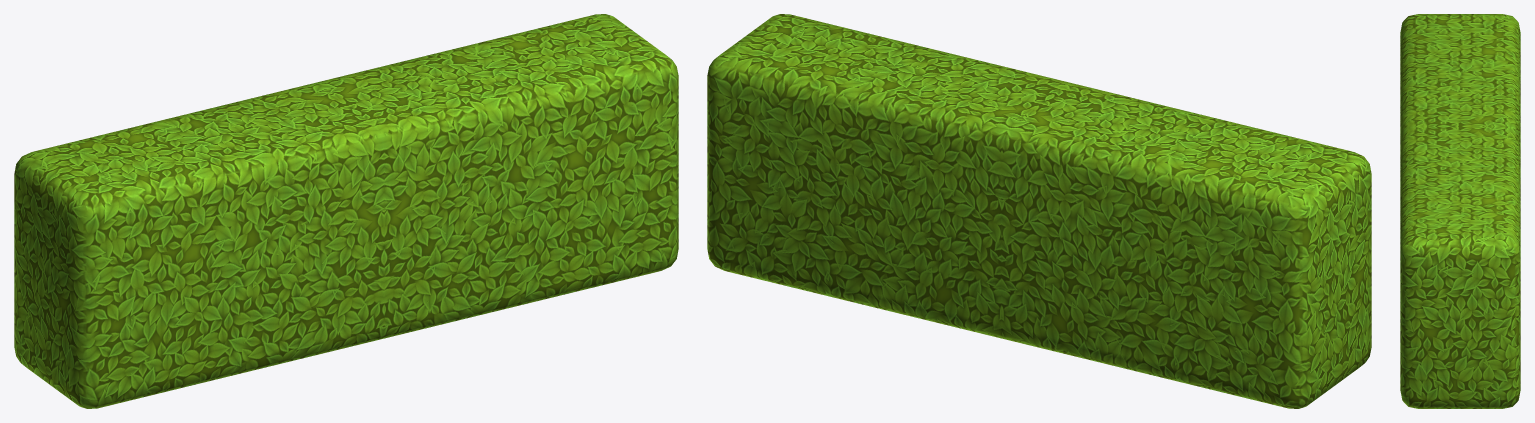
File: Hedge01_2.FBX
3 renders of one model, left to right at view 1: azimuth 30°, elevation 25°; view 2: azimuth 150°, elevation 25°; view 3: azimuth 270°, elevation 25°, orthographic. The views are drawn at different scales.
Parts seen in each view (by area): view 1: Hedge01_2; view 2: Hedge01_2; view 3: Hedge01_2.
Boxes of the visible parts, x1,y1,x2,y2 form: Hedge01_2: [14, 14, 678, 408]; Hedge01_2: [707, 14, 1371, 408]; Hedge01_2: [1400, 14, 1520, 408].
Size of what is drawn, in the model's own units: 3.7 by 1.25 by 0.8.
